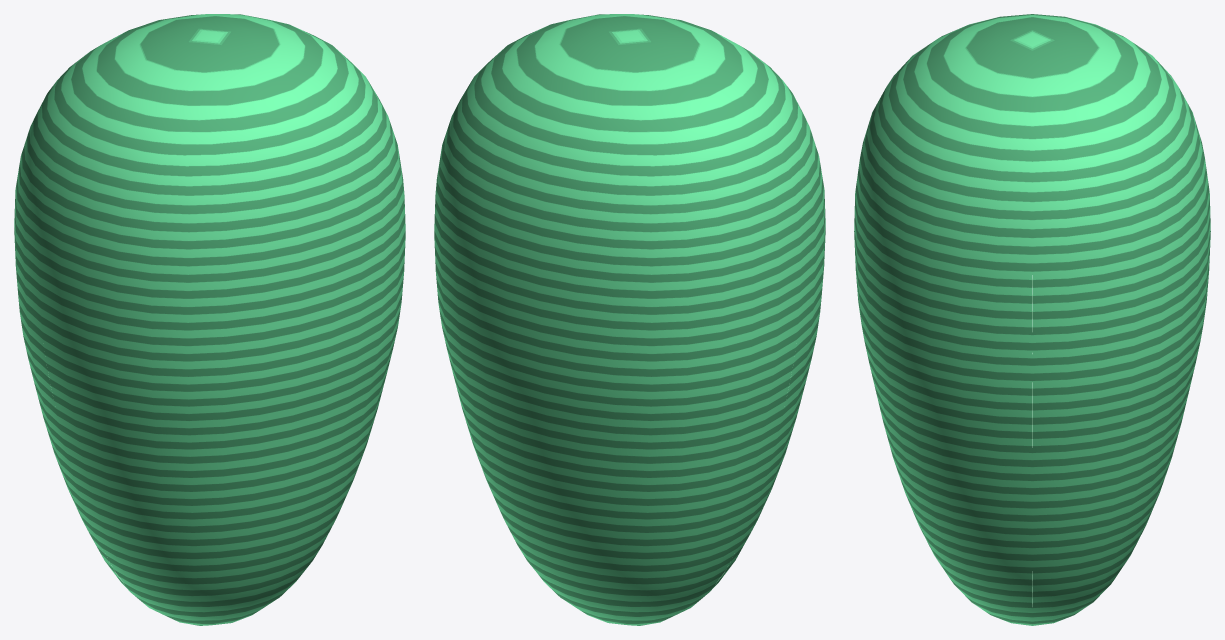
File: Phantom.glb
The picture shows the model from 3 angles, left to right: view 1: azimuth 30°, elevation 25°; view 2: azimuth 150°, elevation 25°; view 3: azimuth 270°, elevation 25°; orthographic projection.
Parts seen in each view (by area): view 1: Main_4; view 2: Main_4; view 3: Main_4.
Part boxes in pixels (x1=…): Main_4: x1=14, y1=14, x2=405, y2=625; Main_4: x1=434, y1=14, x2=825, y2=625; Main_4: x1=854, y1=14, x2=1210, y2=625.
Bounding box in the file's own units: 0.2337 × 0.3824 × 0.2137.
Materials: 3 (2 with a texture image).
